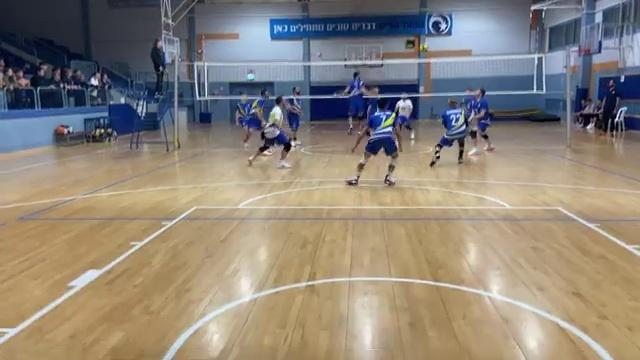ball: (416, 42, 435, 55)
